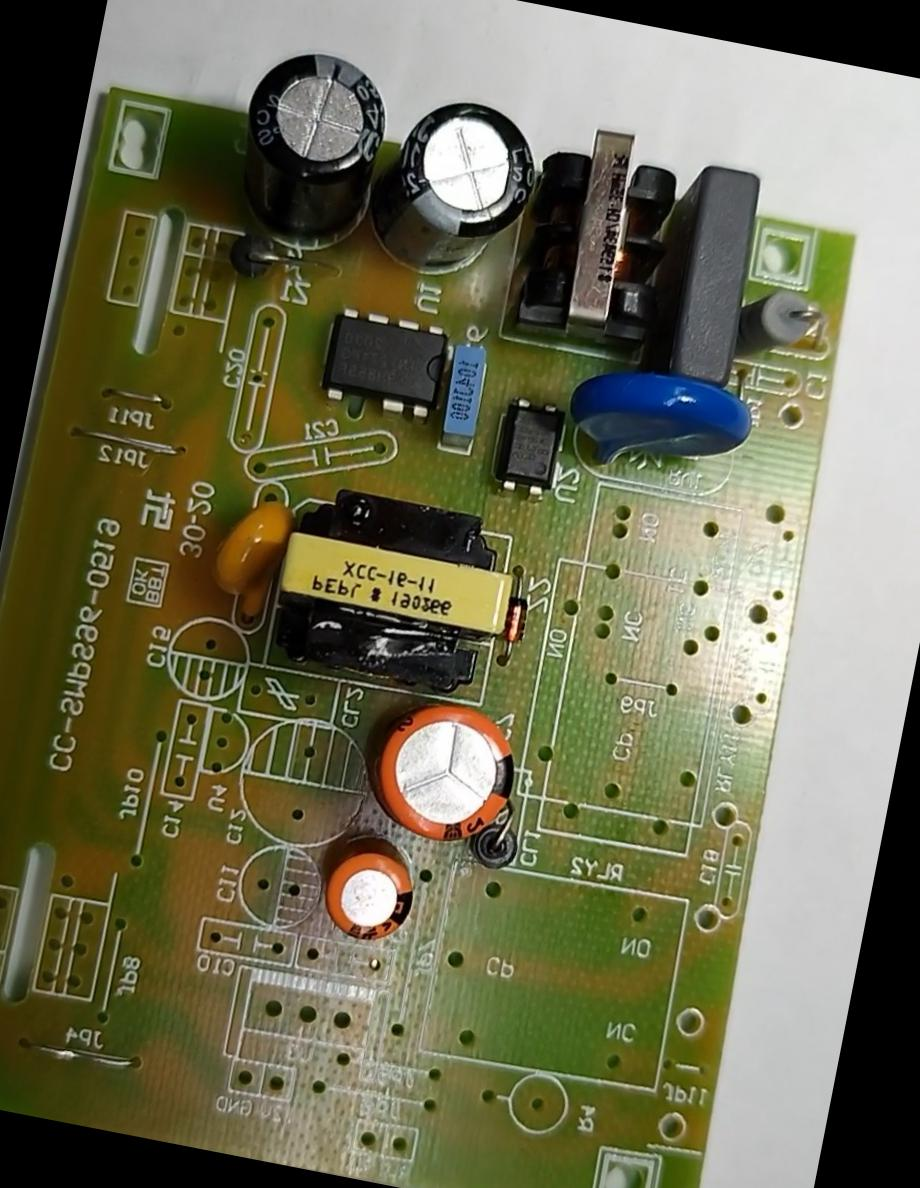Cap1: (359, 687, 538, 865)
Cap2: (315, 834, 426, 958)
Cap3: (368, 85, 550, 298)
Cap4: (218, 34, 406, 264)
MOSFET: (308, 296, 458, 426)
Mov: (560, 350, 770, 492)
Resistor: (730, 278, 829, 374)
Transformer: (257, 474, 528, 703), (514, 116, 696, 360)
